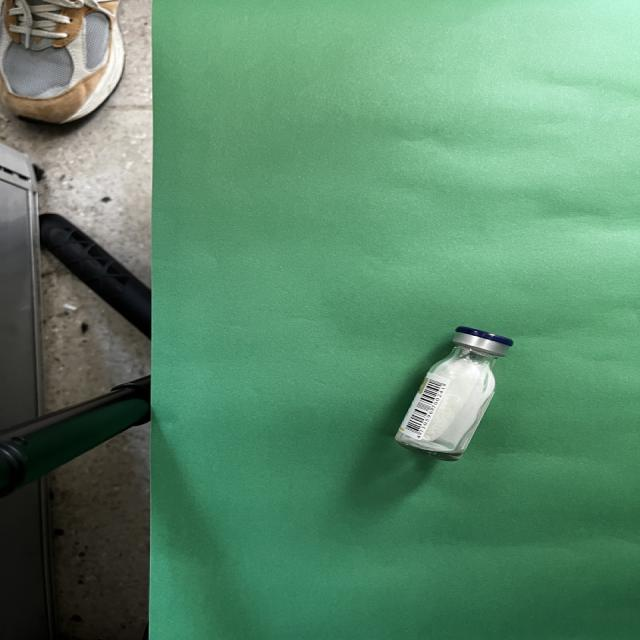Vials: (395, 327, 513, 460)
